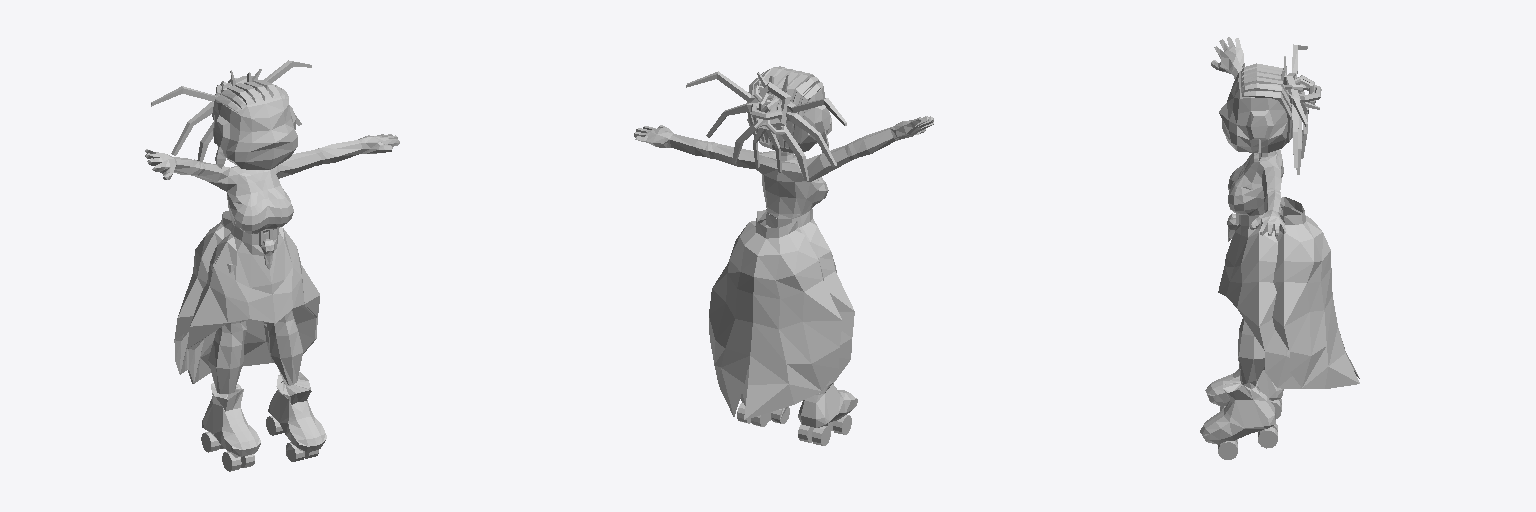
File: WitchFINAL2_000057.obj
3 views of the same model, side by side, from view 1: azimuth 30°, elevation 25°; view 2: azimuth 150°, elevation 25°; view 3: azimuth 270°, elevation 25° (orthographic).
Parts seen in each view (by area): view 1: Body_Cylinder, Torso(Boobies)_Cylinder.002, LegR_Cube.004, LegL_Cube.003, Head_Cylinder.004, ZBody_Cylinder.001, Hair_Cylinder.006, Tail.001_Torus.001; view 2: ZBody_Cylinder.001, Torso(Boobies)_Cylinder.002, Body_Cylinder, LegR_Cube.004, Hair_Cylinder.006, Tail.001_Torus.001, Tail_Torus, Tail.002_Torus.002, Head_Cylinder.004, LegL_Cube.003; view 3: ZBody_Cylinder.001, Body_Cylinder, LegL_Cube.003, Torso(Boobies)_Cylinder.002, Head_Cylinder.004, Hair_Cylinder.006, LegR_Cube.004, Tail_Torus, Tail.002_Torus.002.
Boxes of the visible parts, x1=… form: Body_Cylinder: x1=187, y1=223, x2=319, y2=383; Torso(Boobies)_Cylinder.002: x1=145, y1=134, x2=399, y2=234; LegR_Cube.004: x1=201, y1=264, x2=260, y2=471; LegL_Cube.003: x1=266, y1=310, x2=326, y2=461; Head_Cylinder.004: x1=213, y1=82, x2=297, y2=169; ZBody_Cylinder.001: x1=174, y1=211, x2=231, y2=374; Hair_Cylinder.006: x1=212, y1=80, x2=288, y2=119; Tail.001_Torus.001: x1=151, y1=86, x2=219, y2=161; ZBody_Cylinder.001: x1=709, y1=210, x2=841, y2=419; Torso(Boobies)_Cylinder.002: x1=634, y1=116, x2=933, y2=218; Body_Cylinder: x1=741, y1=209, x2=854, y2=405; LegR_Cube.004: x1=798, y1=383, x2=857, y2=445; Hair_Cylinder.006: x1=747, y1=66, x2=822, y2=148; Tail.001_Torus.001: x1=765, y1=98, x2=846, y2=180; Tail_Torus: x1=751, y1=72, x2=790, y2=134; Tail.002_Torus.002: x1=686, y1=71, x2=765, y2=167; Head_Cylinder.004: x1=747, y1=74, x2=831, y2=152; LegL_Cube.003: x1=737, y1=398, x2=789, y2=426; ZBody_Cylinder.001: x1=1272, y1=197, x2=1359, y2=388; Body_Cylinder: x1=1218, y1=210, x2=1305, y2=388; LegL_Cube.003: x1=1200, y1=319, x2=1277, y2=459; Torso(Boobies)_Cylinder.002: x1=1211, y1=37, x2=1286, y2=235; Head_Cylinder.004: x1=1219, y1=71, x2=1289, y2=152; Hair_Cylinder.006: x1=1241, y1=63, x2=1292, y2=142; LegR_Cube.004: x1=1205, y1=367, x2=1283, y2=418; Tail_Torus: x1=1281, y1=56, x2=1321, y2=114; Tail.002_Torus.002: x1=1289, y1=94, x2=1307, y2=174.
Bounding box in the file's own units: 12.75 × 16.8 × 6.49.